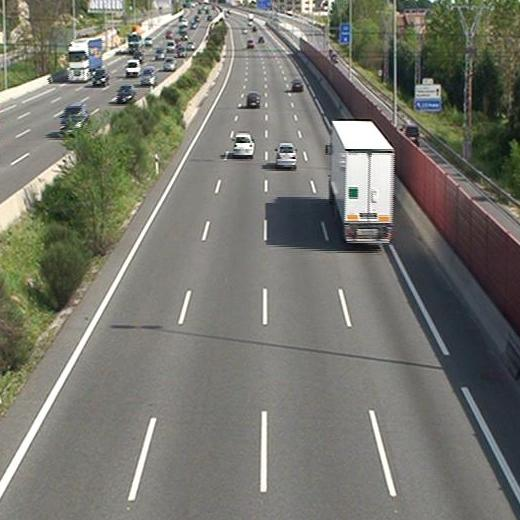car: (232, 132, 256, 158), (273, 144, 297, 169), (246, 92, 263, 108), (290, 77, 305, 90)
truck: (326, 116, 394, 244)
